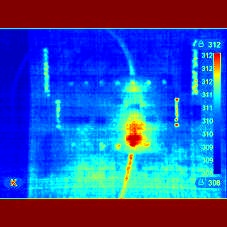High: (121, 118, 148, 150)
